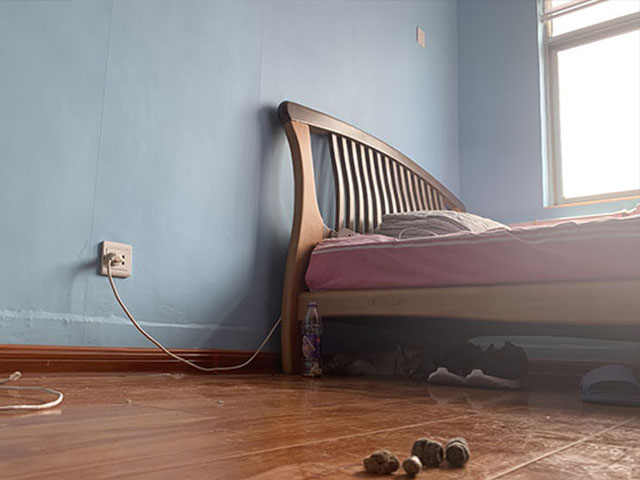bed: (276, 101, 640, 379)
feces: (361, 434, 471, 478)
slippers: (575, 362, 640, 406)
wire: (100, 248, 280, 374), (1, 366, 64, 413)
